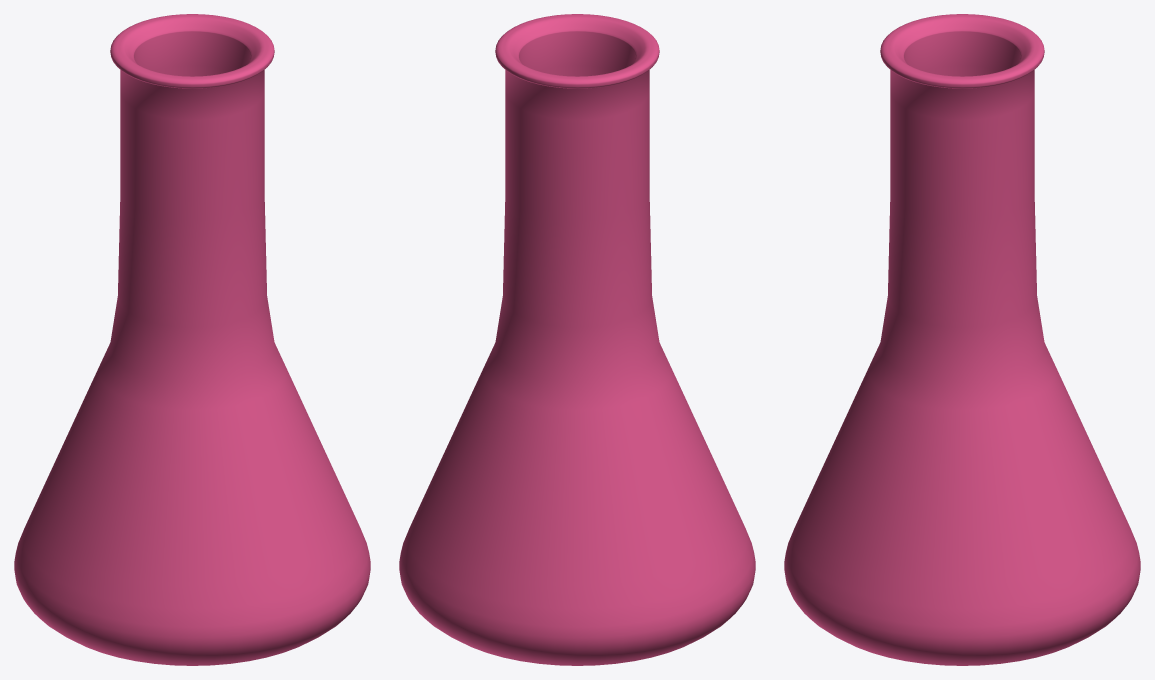
File: Unrealflask.fbx
3 renders of one model, left to right at view 1: azimuth 30°, elevation 25°; view 2: azimuth 150°, elevation 25°; view 3: azimuth 270°, elevation 25°, orthographic.
Visible parts, largest first — view 1: Cone001; view 2: Cone001; view 3: Cone001.
Part boxes in pixels (x1=…): Cone001: x1=14, y1=14, x2=370, y2=665; Cone001: x1=399, y1=14, x2=755, y2=665; Cone001: x1=784, y1=14, x2=1140, y2=665.
Bounding box in the file's own units: 25.67 × 44.28 × 25.67.
